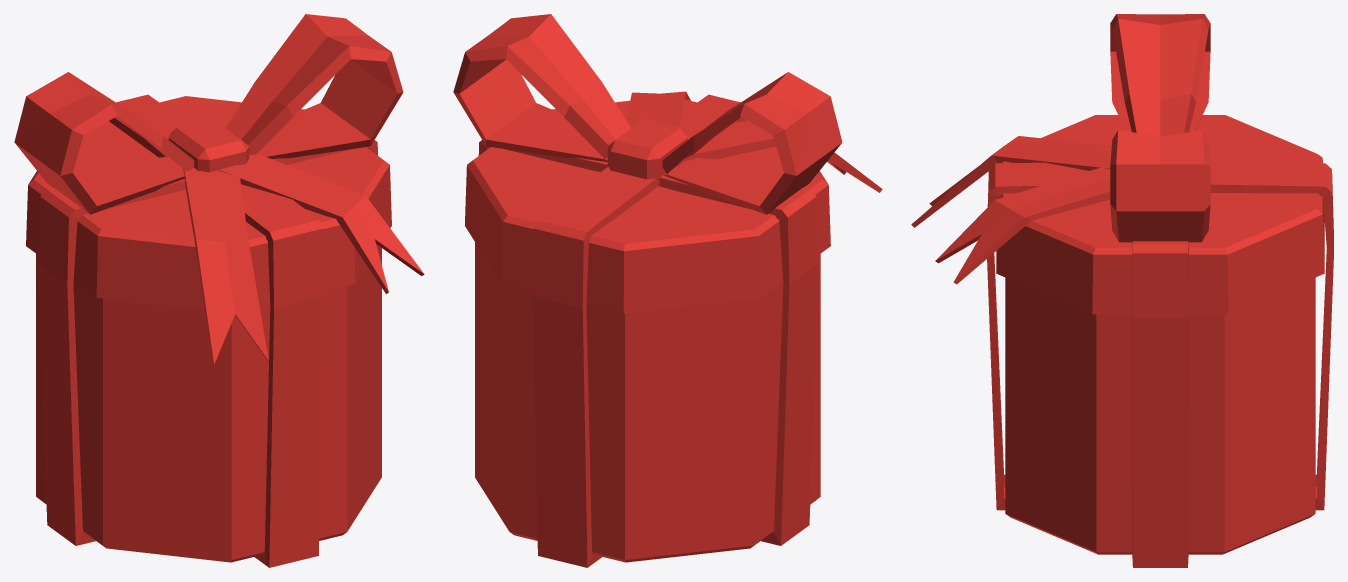
Rendered from SM_Gift_Christmas_Cylinde_D.fbx.
3 views of the same model, side by side, from view 1: azimuth 30°, elevation 25°; view 2: azimuth 150°, elevation 25°; view 3: azimuth 270°, elevation 25° (orthographic). The views are drawn at different scales.
Visible parts, largest first — view 1: gift-christmas-cylinde-d; view 2: gift-christmas-cylinde-d; view 3: gift-christmas-cylinde-d.
Part boxes in pixels (box(x1,y1,x2,y2)): gift-christmas-cylinde-d: box(14, 14, 424, 567); gift-christmas-cylinde-d: box(453, 14, 882, 567); gift-christmas-cylinde-d: box(911, 14, 1333, 567).
Bounding box in the file's own units: 0.3038 × 0.3733 × 0.3367.
